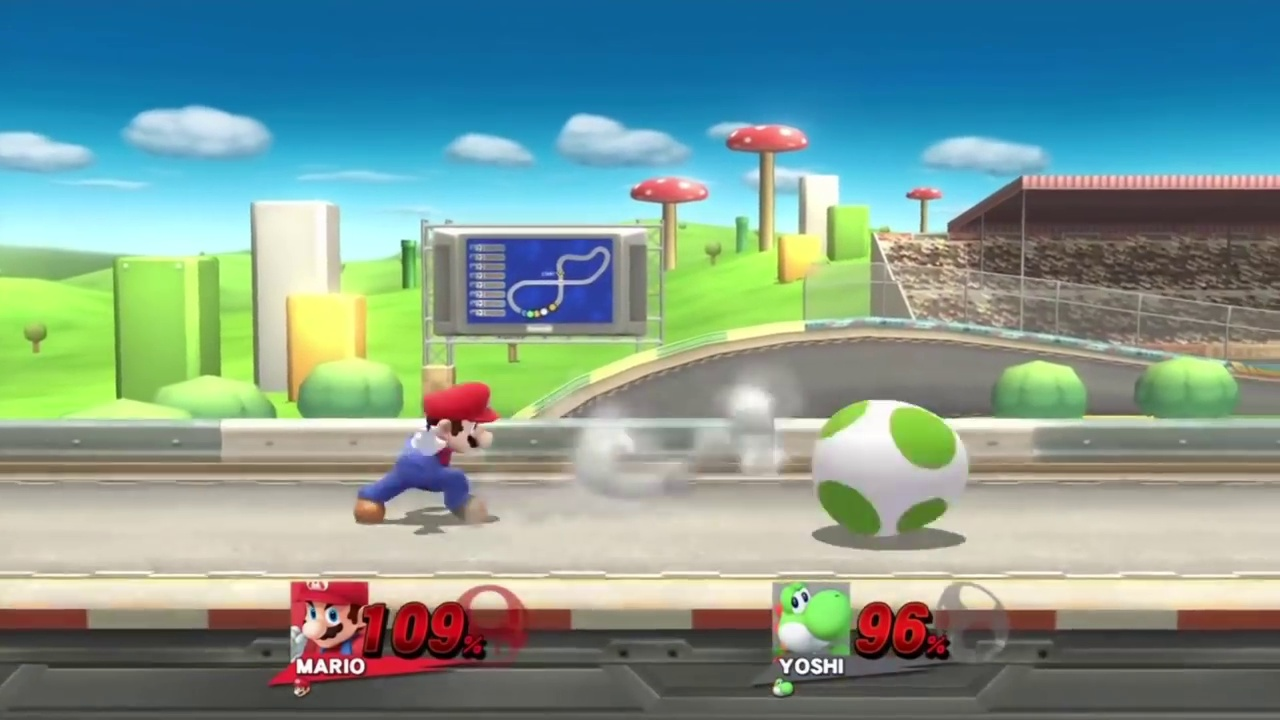Mario: (354, 384, 498, 521)
